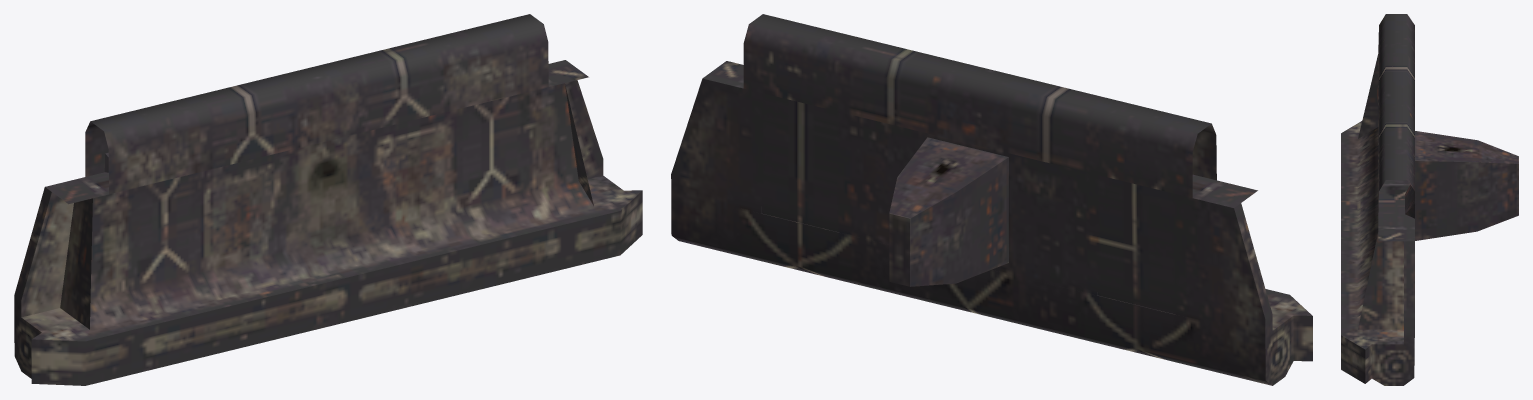
3 views of the same model, side by side, from view 1: azimuth 30°, elevation 25°; view 2: azimuth 150°, elevation 25°; view 3: azimuth 270°, elevation 25° (orthographic). The views are drawn at different scales.
Parts seen in each view (by area): view 1: set_0_group_0; view 2: set_0_group_0; view 3: set_0_group_0.
Boxes of the visible parts, left/top/right/bottom form: set_0_group_0: left=14, top=14, right=642, bottom=385; set_0_group_0: left=671, top=14, right=1312, bottom=385; set_0_group_0: left=1341, top=14, right=1518, bottom=385.
Size of the model in its own units: 0.4456 by 0.1612 by 0.145.
Materials: 1 (1 with a texture image).
